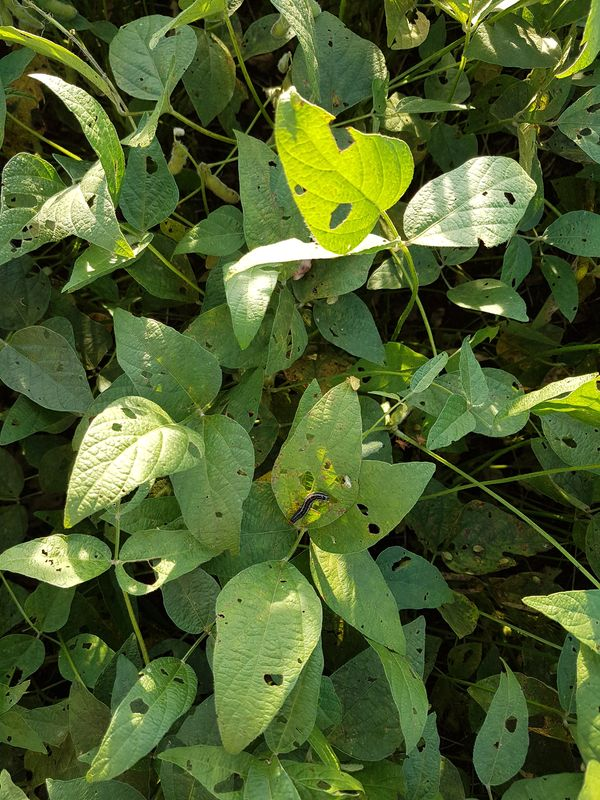Euschistus_heros_adulto: (392, 435, 410, 453), (414, 432, 431, 449)
Euschistus_heros_ninfa: (344, 373, 364, 393), (323, 292, 342, 309), (412, 421, 423, 432)
Gastropoda: (288, 254, 315, 284)
Spodoptera_albula: (282, 486, 336, 530)
